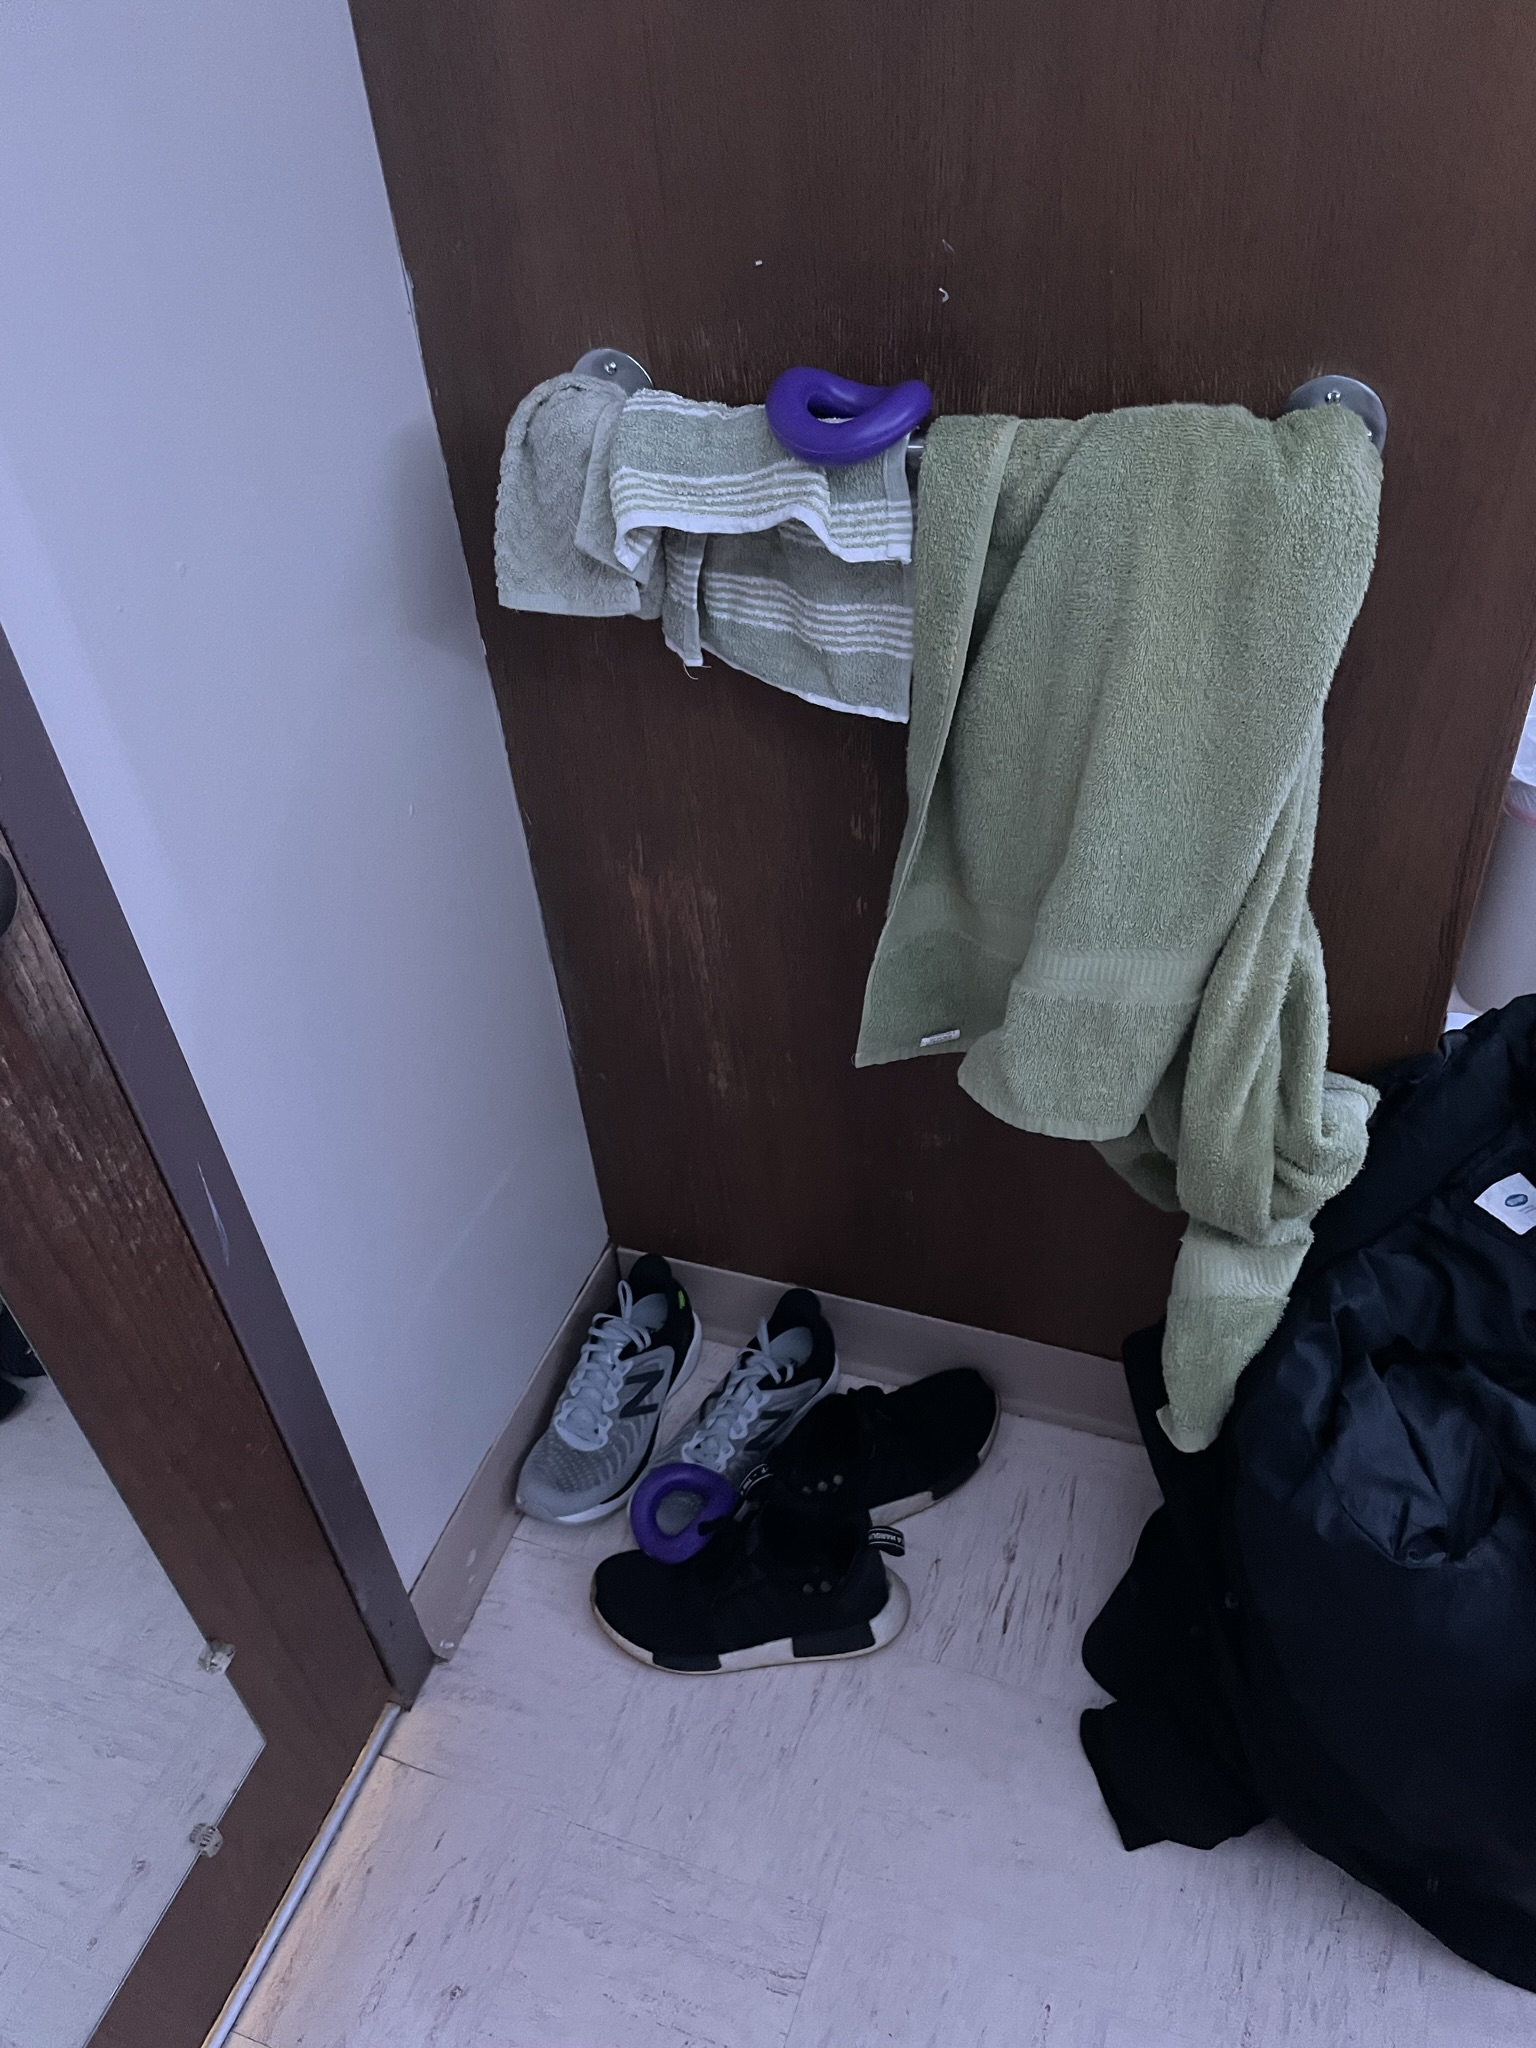ring: (762, 368, 939, 468), (628, 1461, 737, 1561)
